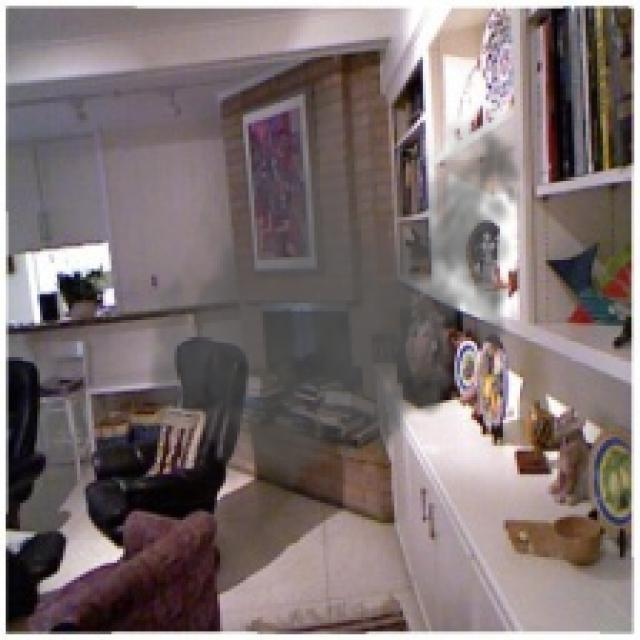Smoke: (140, 86, 534, 512)
